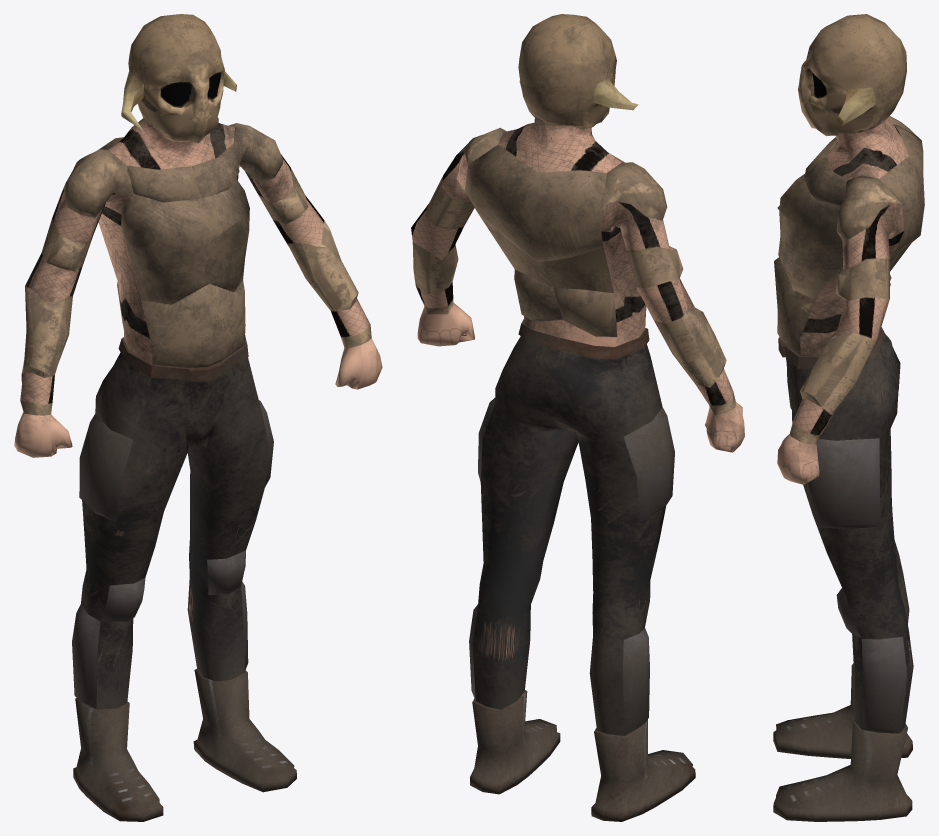
File: Anim_idle_npc1.0036.obj
3 views of the same model, side by side, from view 1: azimuth 30°, elevation 25°; view 2: azimuth 150°, elevation 25°; view 3: azimuth 270°, elevation 25° (orthographic).
Visible parts, largest first — view 1: NPC2; view 2: NPC2; view 3: NPC2.
Part boxes in pixels (box(x1,y1,x2,y2)): NPC2: box(14, 14, 382, 821); NPC2: box(411, 14, 744, 821); NPC2: box(773, 14, 924, 821).
Size of the model in its own units: 4.53 by 9.66 by 1.74.
